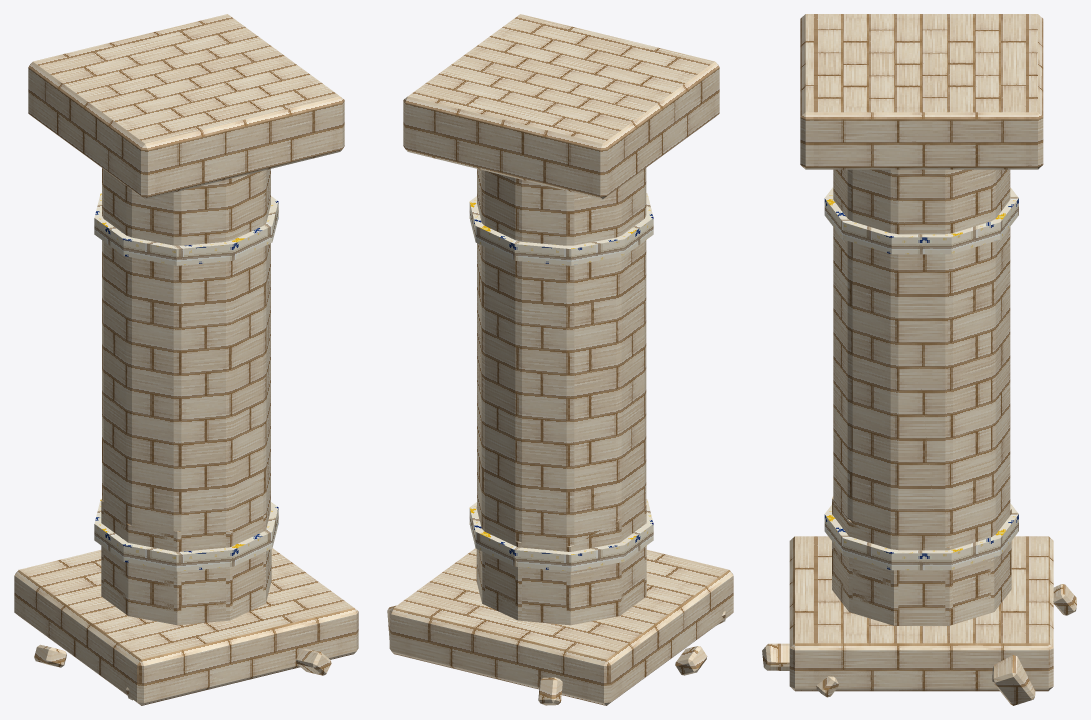
File: tower_column.glb
The picture shows the model from 3 angles, left to right: view 1: azimuth 30°, elevation 25°; view 2: azimuth 150°, elevation 25°; view 3: azimuth 270°, elevation 25°; orthographic projection. The views are drawn at different scales.
Parts seen in each view (by area): view 1: Column, Stub; view 2: Column, Stub; view 3: Column, Stub.
Part boxes in pixels (x1,y1,x2,y2): Column: [14, 14, 358, 705]; Stub: [14, 500, 331, 700]; Column: [389, 14, 733, 705]; Stub: [387, 504, 725, 705]; Column: [789, 14, 1053, 691]; Stub: [762, 496, 1076, 705].
Bounding box in the file's own units: 3.09 × 6.13 × 2.98.
Materials: 2 (2 with a texture image).
